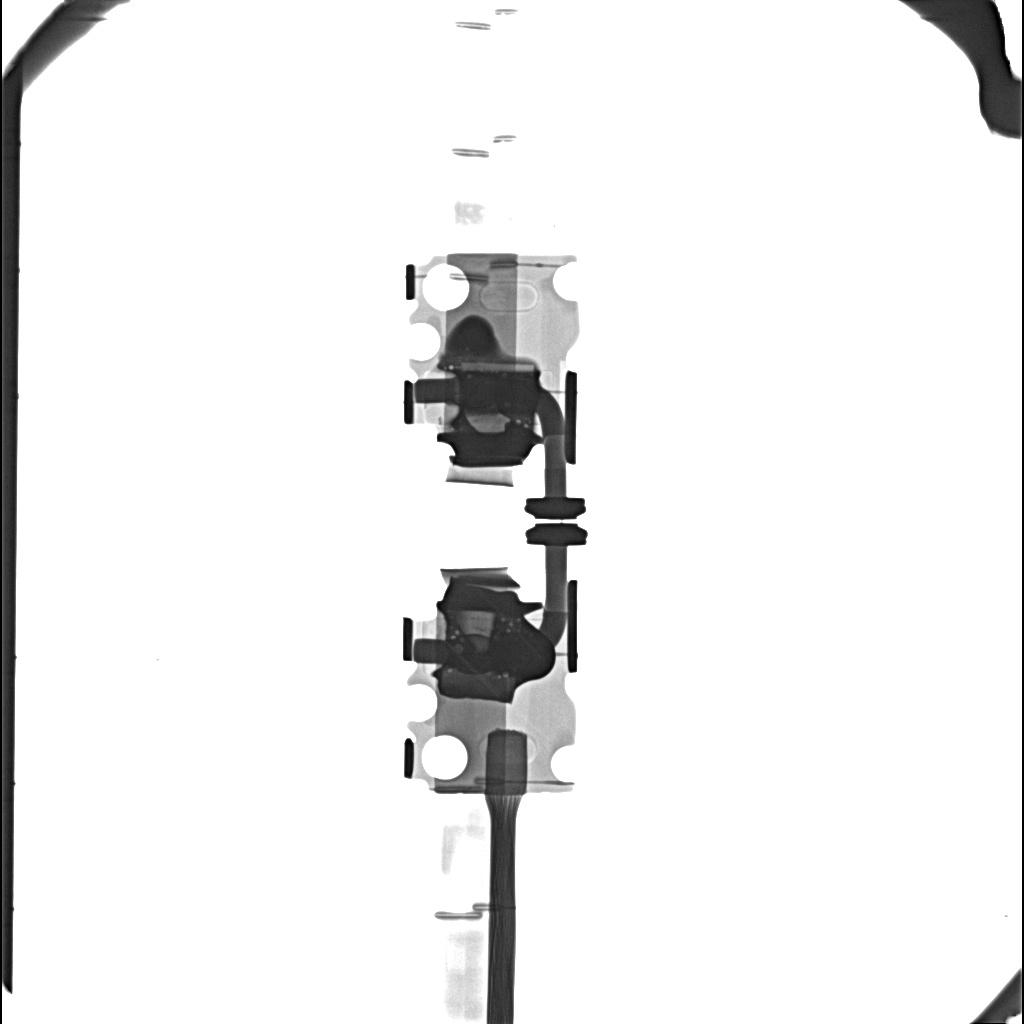PX: (459, 360, 537, 370)
QP: (461, 611, 494, 637), (467, 414, 510, 433)
SX: (464, 636, 555, 674), (459, 372, 538, 412)
